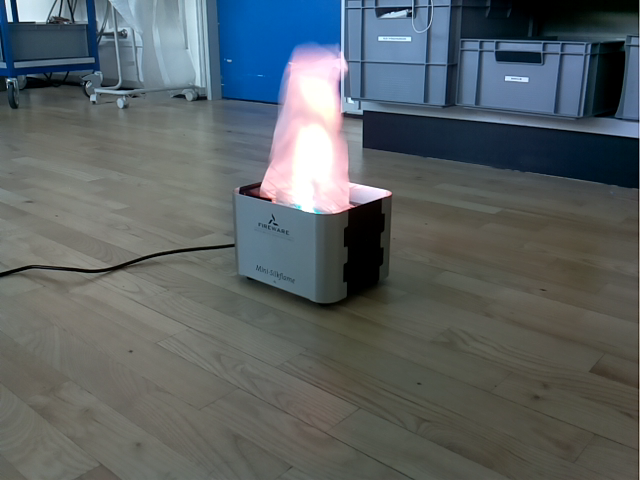fire: (259, 43, 349, 214)
